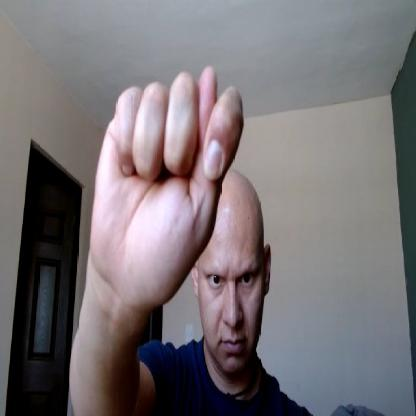T: (90, 61, 246, 303)
